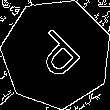P_SE: (25, 23, 87, 85)
